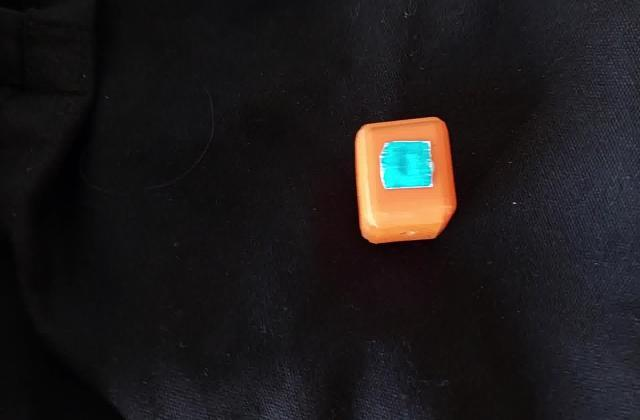blue: (392, 148, 424, 182)
sticker: (347, 113, 462, 249)
